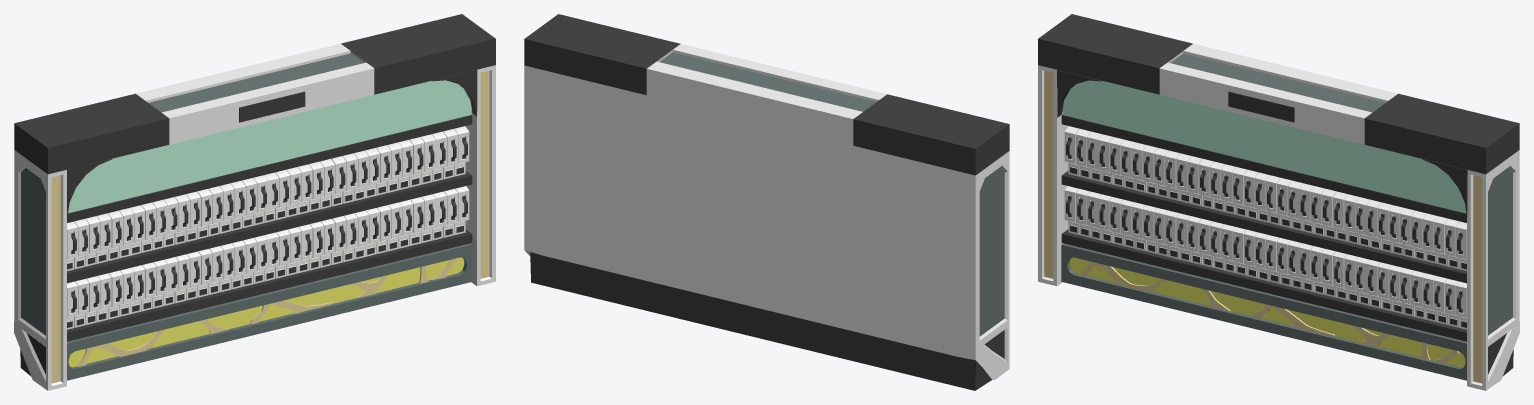
The model's file is Gr_Assets_03.fbx.
The picture shows the model from 3 angles, left to right: view 1: azimuth 30°, elevation 25°; view 2: azimuth 150°, elevation 25°; view 3: azimuth 330°, elevation 25°; orthographic projection.
Visible parts, largest first — view 1: dup1_UV_01_pCube13; view 2: dup1_UV_01_pCube13; view 3: dup1_UV_01_pCube13.
Boxes of the visible parts, bbox=[...] form: dup1_UV_01_pCube13: bbox=[14, 14, 495, 390]; dup1_UV_01_pCube13: bbox=[524, 14, 1009, 390]; dup1_UV_01_pCube13: bbox=[1038, 14, 1519, 390].
Size of the model in its own units: 589 by 306 by 78.47.
